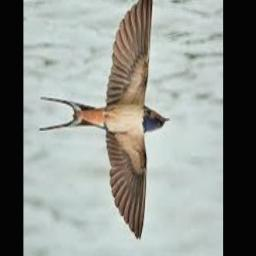Swallow: (40, 0, 170, 240)
